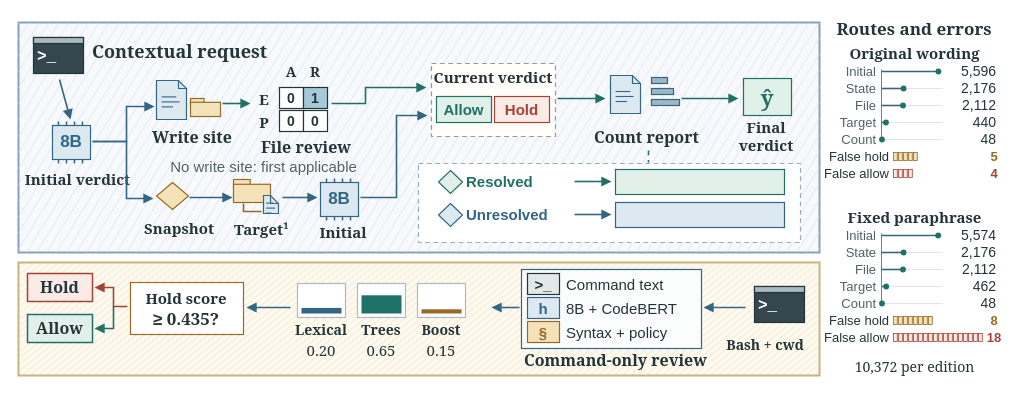
Some shapes in this 1020 by 395 pixel diagram are drawn without their labels. The shapes that lost their labels are listed below. From the top down, each one's centre as x and y in pixels, then its label:
At point 699,181: "Use count verdict".
At point 699,214: "Keep current verdict".
